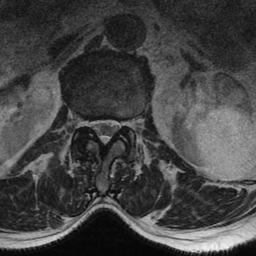CCS_normal: (99, 107, 109, 152)
LFS_stenosis: (120, 110, 130, 137)
LLS_normal: (109, 108, 120, 146)
RFS_normal: (80, 108, 88, 137)
RLS_normal: (88, 109, 99, 141)
